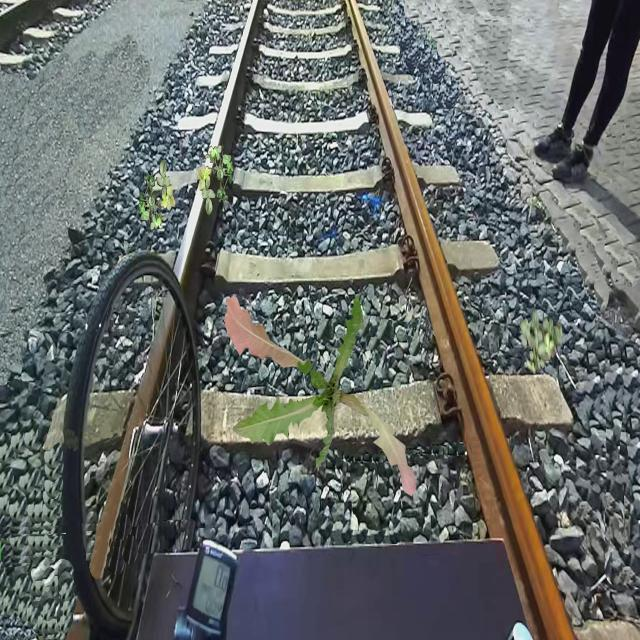Plant: (224, 294, 416, 496), (519, 309, 562, 376), (138, 160, 176, 234), (197, 142, 234, 216)
